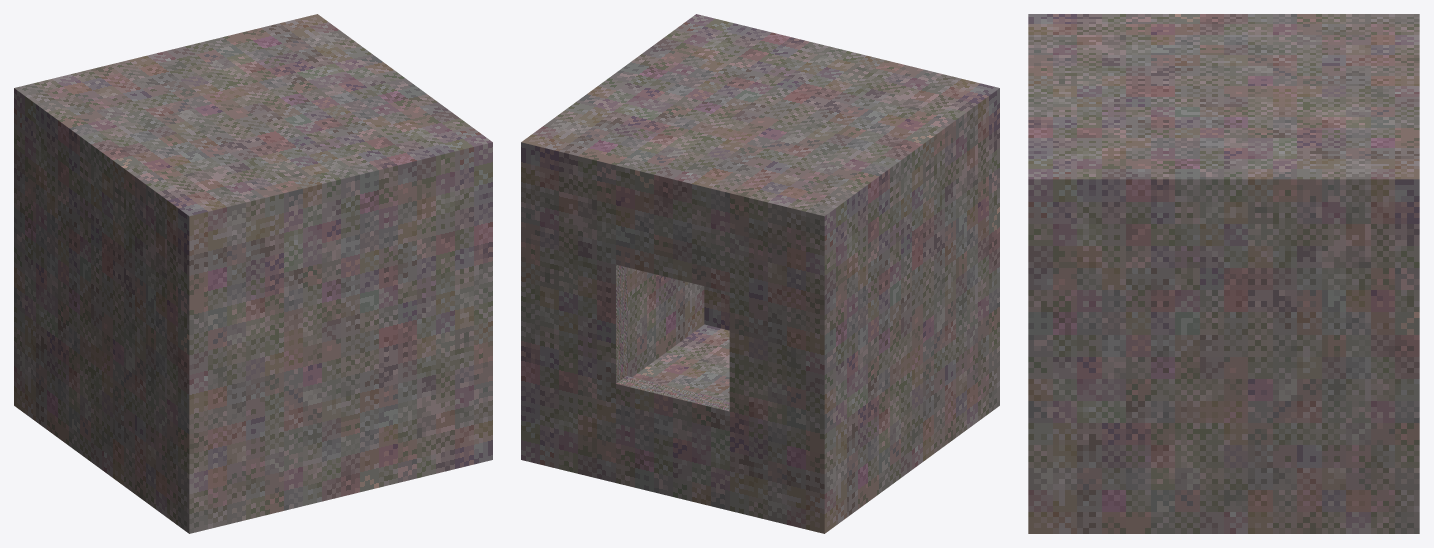
Rendered from TestScene.gltf.
3 views of the same model, side by side, from view 1: azimuth 30°, elevation 25°; view 2: azimuth 150°, elevation 25°; view 3: azimuth 270°, elevation 25° (orthographic). The views are drawn at different scales.
Parts seen in each view (by area): view 1: CSGCombiner3D2; view 2: CSGCombiner3D2; view 3: CSGCombiner3D2.
Part boxes in pixels (x1,y1,x2,y2): CSGCombiner3D2: [14, 14, 492, 533]; CSGCombiner3D2: [521, 14, 999, 533]; CSGCombiner3D2: [1028, 14, 1419, 533].
Size of the model in its own units: 8 by 8 by 8.
1 material, 1 textured.
